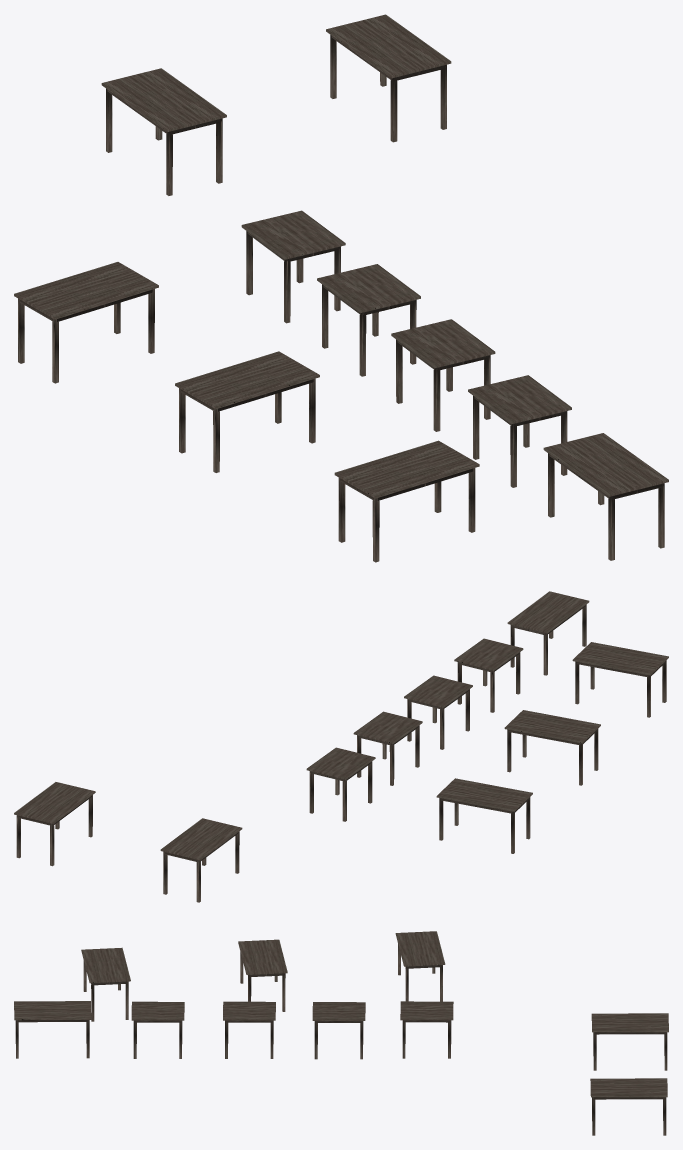
3 views of the same model, one above another, from view 1: azimuth 30°, elevation 25°; view 2: azimuth 150°, elevation 25°; view 3: azimuth 270°, elevation 25° (orthographic). The views are drawn at different scales.
Visible parts, largest first — view 1: Bistro_Research_Interior_Paris_Table_02B_3250, Bistro_Research_Interior_Paris_Table_02B__3260, Bistro_Research_Interior_Paris_Table_02B__3258, Bistro_Research_Interior_Paris_Table_02B__3256, Bistro_Research_Interior_Paris_Table_02B__3254, Bistro_Research_Interior_Paris_Table_02B__3252, Bistro_Research_Interior_Paris_Table_02A_3242, Bistro_Research_Interior_Paris_Table_02A__3248, Bistro_Research_Interior_Paris_Table_02A__3246, Bistro_Research_Interior_Paris_Table_02A__3244; view 2: Bistro_Research_Interior_Paris_Table_02B__3258, Bistro_Research_Interior_Paris_Table_02B_3250, Bistro_Research_Interior_Paris_Table_02B__3260, Bistro_Research_Interior_Paris_Table_02B__3254, Bistro_Research_Interior_Paris_Table_02B__3256, Bistro_Research_Interior_Paris_Table_02B__3252, Bistro_Research_Interior_Paris_Table_02A__3248, Bistro_Research_Interior_Paris_Table_02A__3244, Bistro_Research_Interior_Paris_Table_02A_3242, Bistro_Research_Interior_Paris_Table_02A__3246; view 3: Bistro_Research_Interior_Paris_Table_02B__3256, Bistro_Research_Interior_Paris_Table_02B__3254, Bistro_Research_Interior_Paris_Table_02B_3250, Bistro_Research_Interior_Paris_Table_02B__3252, Bistro_Research_Interior_Paris_Table_02B__3260, Bistro_Research_Interior_Paris_Table_02B__3258, Bistro_Research_Interior_Paris_Table_02A__3248, Bistro_Research_Interior_Paris_Table_02A__3244, Bistro_Research_Interior_Paris_Table_02A_3242, Bistro_Research_Interior_Paris_Table_02A__3246.
Boxes of the visible parts, x1,y1,x2,y2 form: Bistro_Research_Interior_Paris_Table_02B_3250: (334, 440, 479, 562); Bistro_Research_Interior_Paris_Table_02B__3260: (175, 351, 319, 472); Bistro_Research_Interior_Paris_Table_02B__3258: (14, 262, 158, 383); Bistro_Research_Interior_Paris_Table_02B__3256: (326, 14, 451, 142); Bistro_Research_Interior_Paris_Table_02B__3254: (101, 68, 226, 195); Bistro_Research_Interior_Paris_Table_02B__3252: (543, 433, 668, 560); Bistro_Research_Interior_Paris_Table_02A_3242: (391, 319, 495, 431); Bistro_Research_Interior_Paris_Table_02A__3248: (241, 210, 345, 323); Bistro_Research_Interior_Paris_Table_02A__3246: (317, 264, 420, 376); Bistro_Research_Interior_Paris_Table_02A__3244: (468, 375, 571, 487); Bistro_Research_Interior_Paris_Table_02B__3258: (436, 778, 532, 853); Bistro_Research_Interior_Paris_Table_02B_3250: (572, 642, 668, 717); Bistro_Research_Interior_Paris_Table_02B__3260: (504, 710, 600, 785); Bistro_Research_Interior_Paris_Table_02B__3254: (160, 818, 242, 902); Bistro_Research_Interior_Paris_Table_02B__3256: (14, 782, 95, 866); Bistro_Research_Interior_Paris_Table_02B__3252: (507, 591, 589, 675); Bistro_Research_Interior_Paris_Table_02A__3248: (306, 747, 375, 821); Bistro_Research_Interior_Paris_Table_02A__3244: (454, 638, 523, 712); Bistro_Research_Interior_Paris_Table_02A_3242: (404, 675, 472, 749); Bistro_Research_Interior_Paris_Table_02A__3246: (353, 711, 422, 785); Bistro_Research_Interior_Paris_Table_02B__3256: (590, 1078, 667, 1135); Bistro_Research_Interior_Paris_Table_02B__3254: (591, 1013, 668, 1070); Bistro_Research_Interior_Paris_Table_02B_3250: (81, 947, 130, 1021); Bistro_Research_Interior_Paris_Table_02B__3252: (14, 1001, 91, 1058); Bistro_Research_Interior_Paris_Table_02B__3260: (238, 939, 287, 1011); Bistro_Research_Interior_Paris_Table_02B__3258: (395, 931, 445, 1001); Bistro_Research_Interior_Paris_Table_02A__3248: (400, 1001, 453, 1058); Bistro_Research_Interior_Paris_Table_02A__3244: (131, 1001, 184, 1058); Bistro_Research_Interior_Paris_Table_02A_3242: (223, 1001, 275, 1058); Bistro_Research_Interior_Paris_Table_02A__3246: (312, 1002, 365, 1059).
Bounding box in the file's own units: 6.61 × 0.7604 × 11.1.
Materials: 1 (1 with a texture image).
